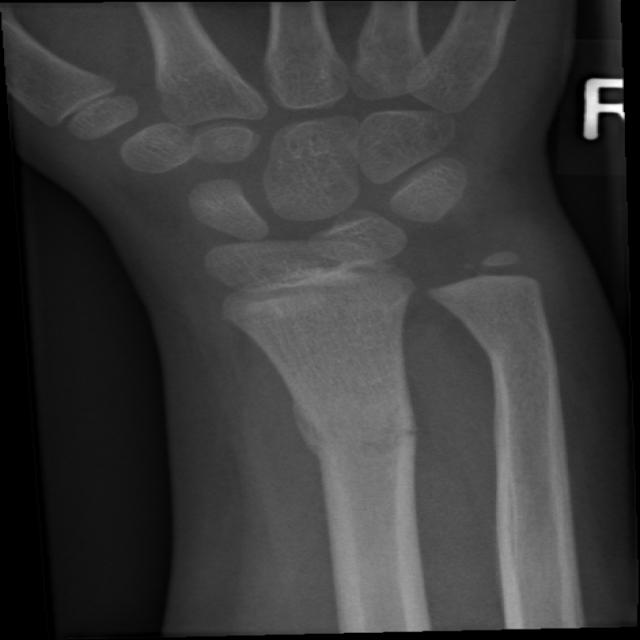radius fracture: (251, 351, 462, 545)
